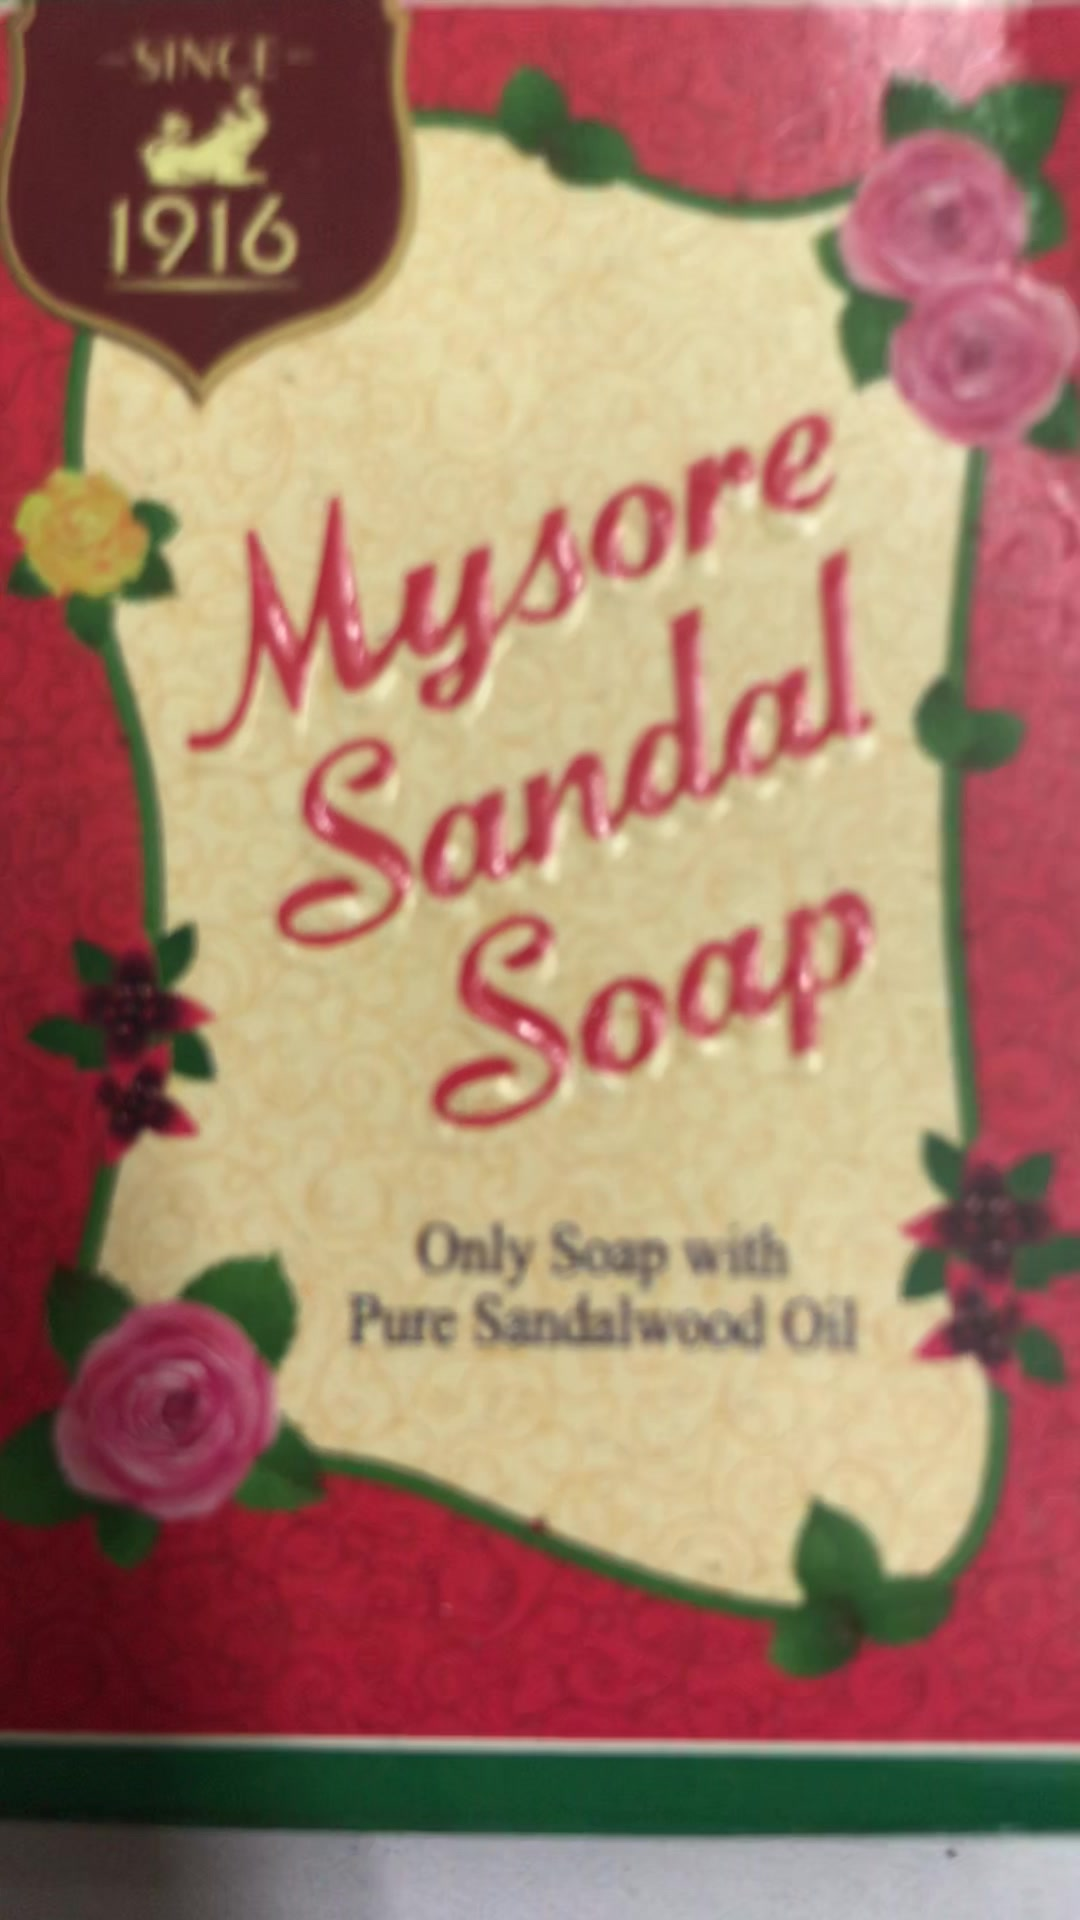mysore sandal soap: (18, 11, 1063, 1846)
